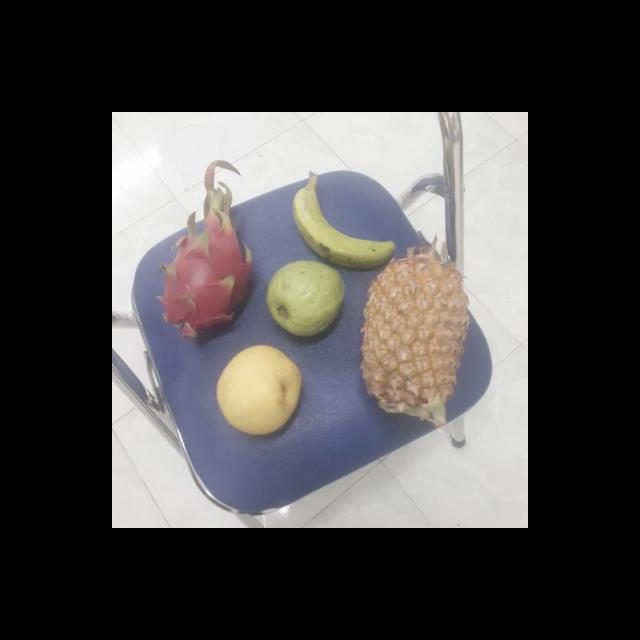banana: (294, 182, 394, 268)
guava: (266, 260, 346, 336)
pear: (214, 346, 308, 436)
pineapple: (362, 258, 478, 422)
pitaya: (164, 213, 258, 341)
